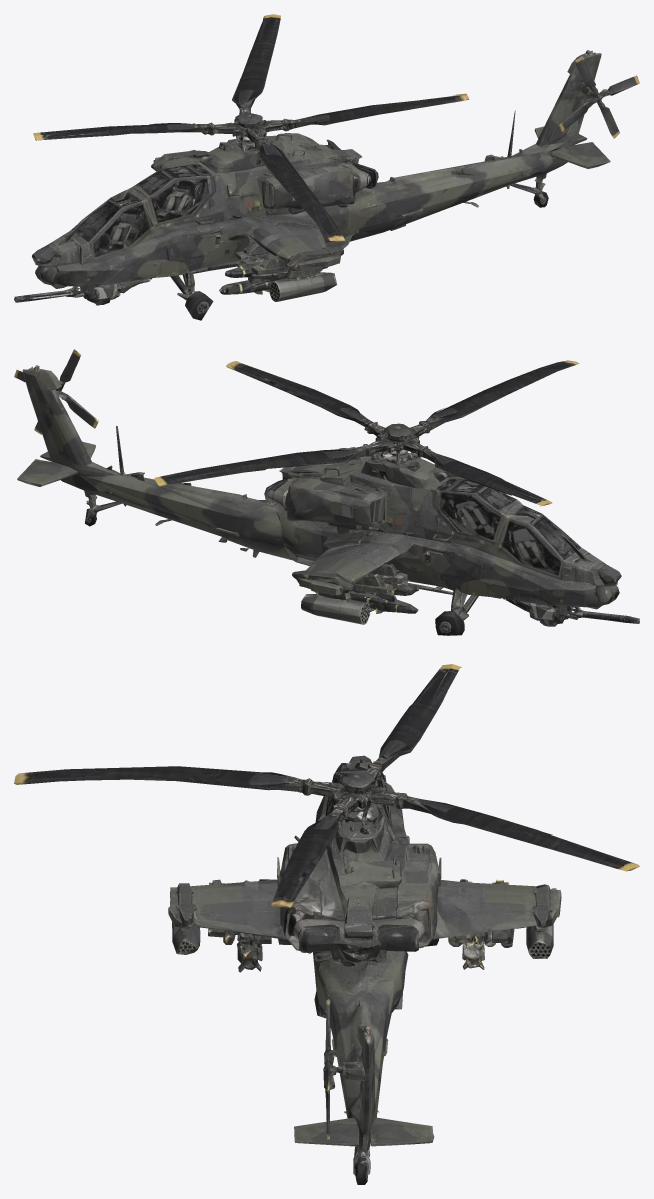
File: heli.glb
The picture shows the model from 3 angles, top to bottom: view 1: azimuth 30°, elevation 25°; view 2: azimuth 150°, elevation 25°; view 3: azimuth 270°, elevation 25°; orthographic projection. The views are drawn at different scales.
Visible parts, largest first — view 1: Mesh_0; view 2: Mesh_0; view 3: Mesh_0.
Boxes of the visible parts, x1,y1,x2,y2 form: Mesh_0: (14, 14, 639, 320); Mesh_0: (14, 349, 639, 635); Mesh_0: (14, 664, 639, 1184).
Size of the model in its own units: 1.9 by 0.4906 by 1.27.
Materials: 1 (1 with a texture image).
